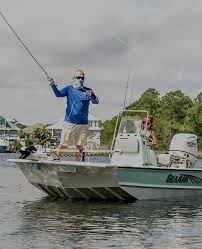boat: (7, 70, 202, 203)
